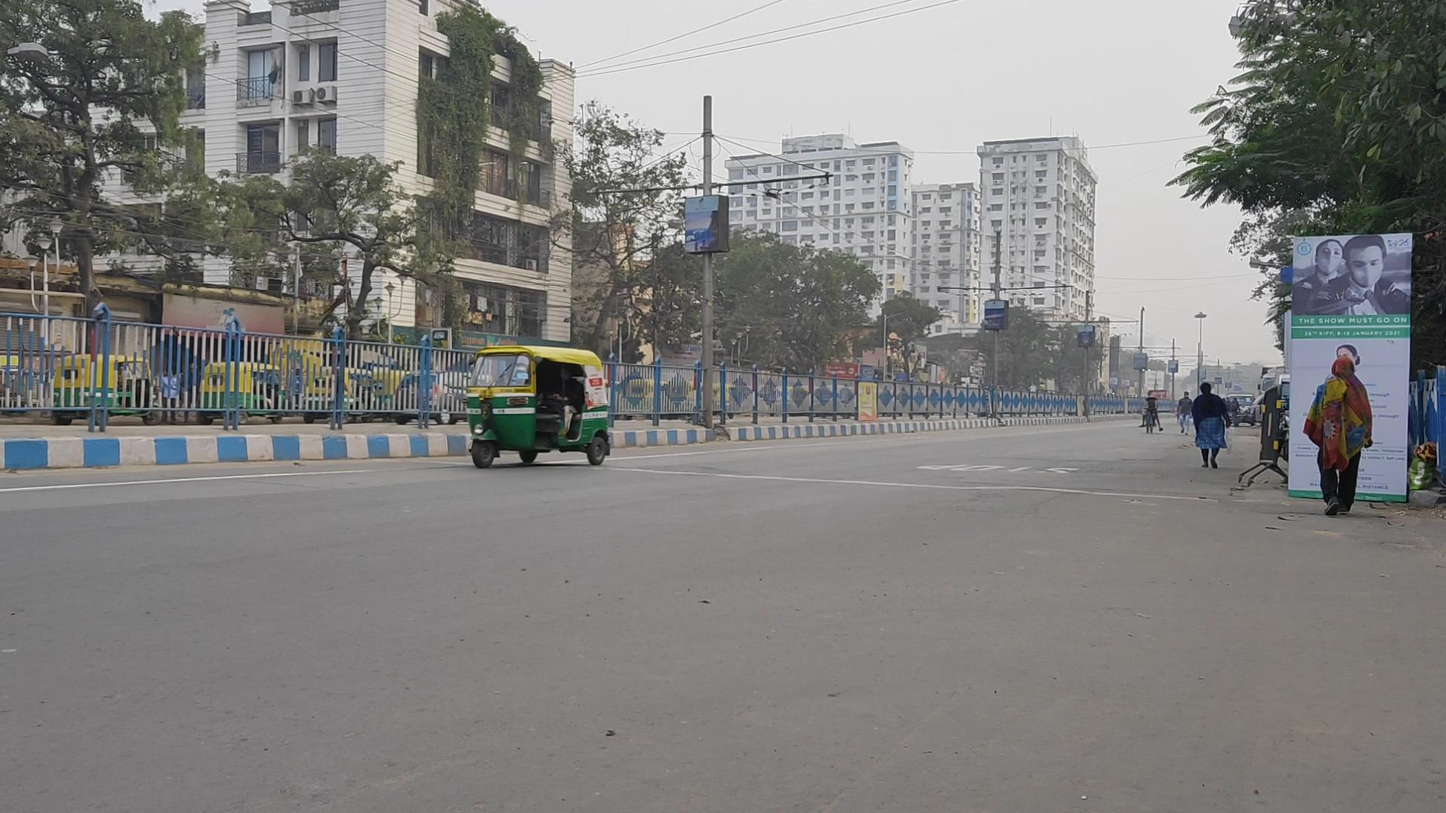Auto: (465, 344, 612, 470)
bike: (1139, 390, 1164, 434)
